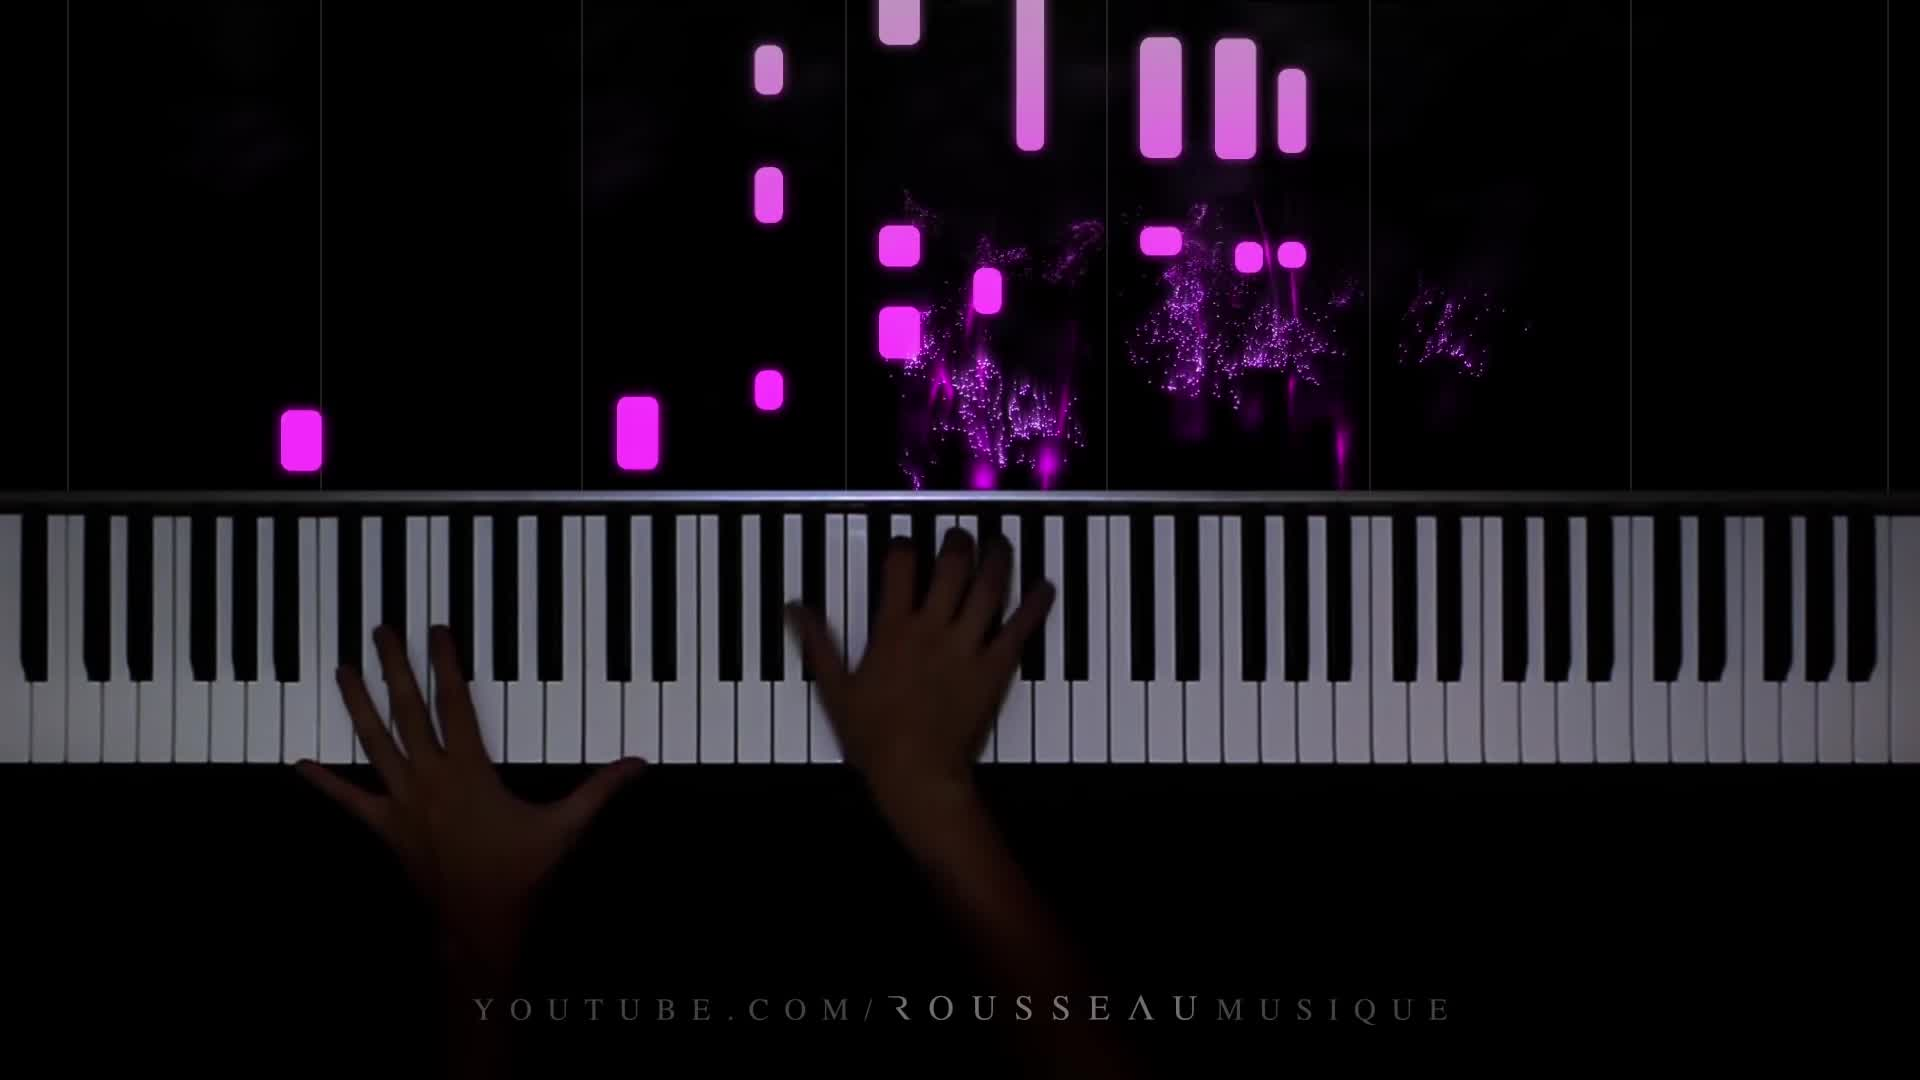left: (294, 615, 651, 918)
right: (789, 520, 1056, 825)
